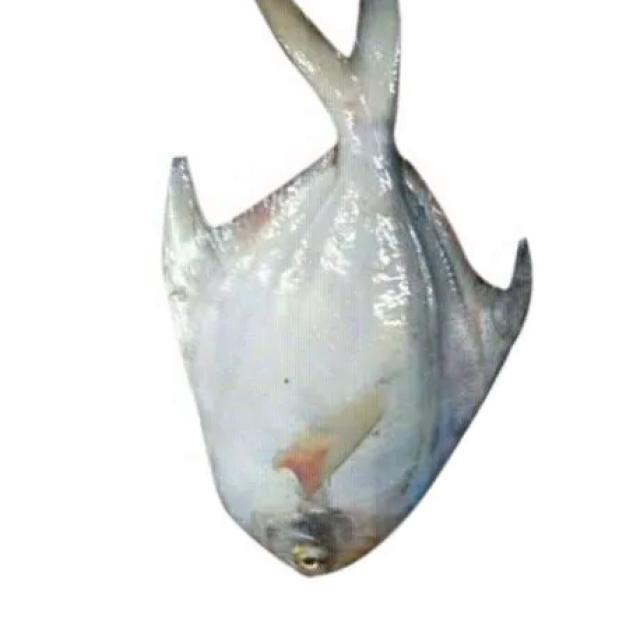pomfred: (159, 0, 535, 586)
